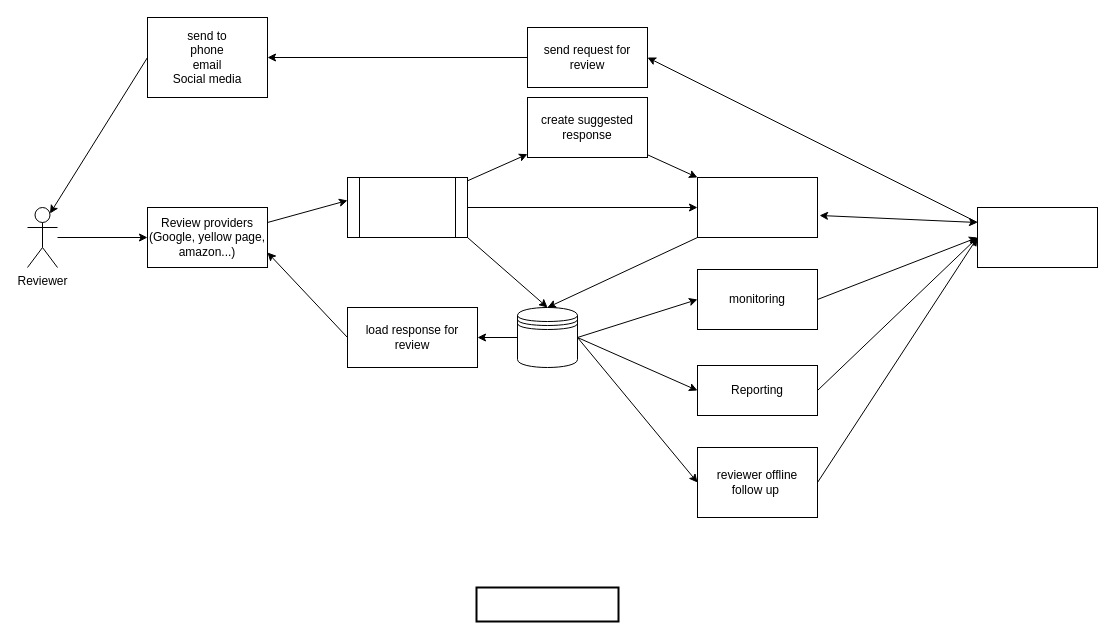
Image size: 1115x640. Some labels were removed from this diagram. The centre of each missing label's shape, as x and y in pixels:
"collect reviews" goes at (x=407, y=207).
"ReviewMonitoring" goes at (x=547, y=604).
"send to business owner" goes at (x=757, y=207).
"UI, Business owner System email, API,(Service now, Salesforce...)" goes at (x=1037, y=237).
